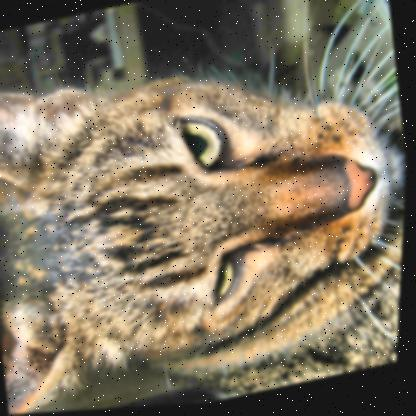cat: (0, 0, 414, 415)
